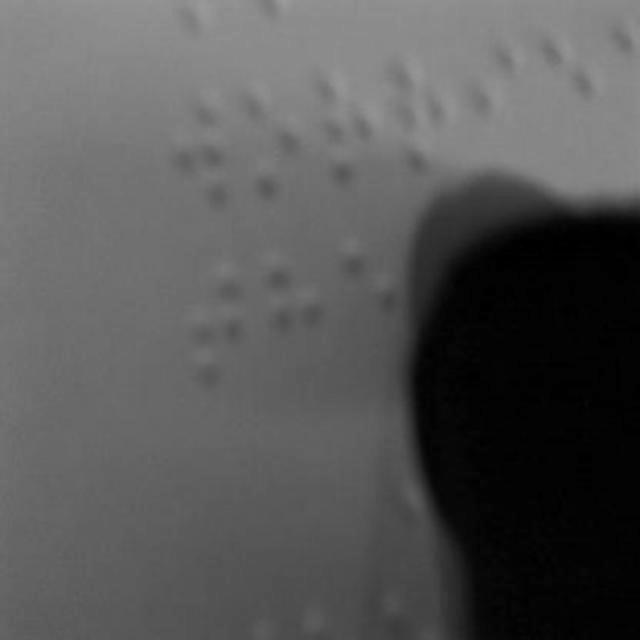braiile: (236, 69, 308, 213), (333, 234, 405, 376), (389, 52, 461, 185), (314, 60, 382, 200), (258, 247, 324, 391), (186, 251, 250, 397), (169, 82, 235, 215), (536, 24, 600, 160), (468, 35, 532, 162)
